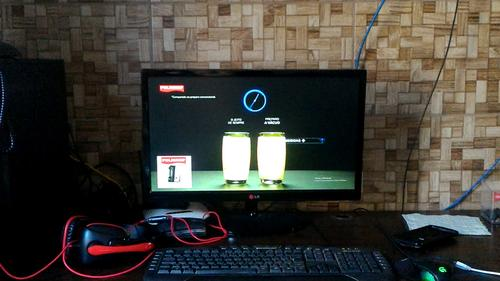Polishop #1: (156, 154, 191, 187)
